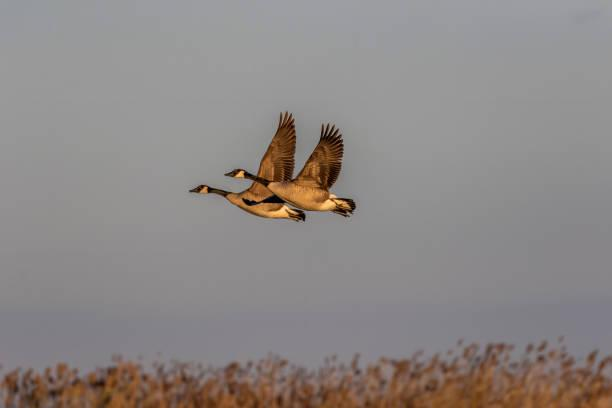Canadian-Goose: (188, 113, 304, 224), (225, 123, 356, 218)
